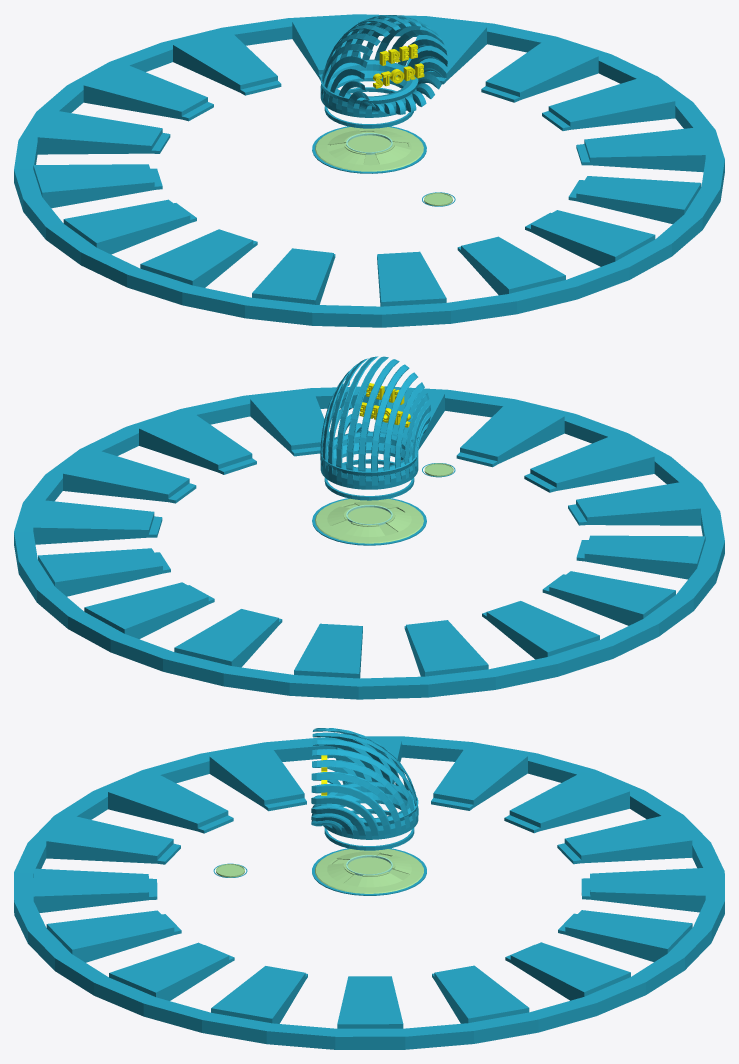
The model's file is FreeStore04.dae.
The picture shows the model from 3 angles, top to bottom: view 1: azimuth 30°, elevation 25°; view 2: azimuth 150°, elevation 25°; view 3: azimuth 270°, elevation 25°; orthographic projection.
Visible parts, largest first — view 1: Cylinder_006, Torus, Cylinder, FREE_STORE, Cylinder_002, Cylinder_003; view 2: Cylinder_006, Torus, Cylinder, FREE_STORE, Cylinder_002, Cylinder_003; view 3: Cylinder_006, Torus, Cylinder, Cylinder_002, Cylinder_003.
Boxes of the visible parts, box(x1,y1,x2,y2) form: Cylinder_006: box(14, 14, 724, 327); Torus: box(320, 15, 447, 117); Cylinder: box(315, 127, 423, 171); FREE_STORE: box(373, 43, 424, 88); Cylinder_002: box(324, 87, 413, 128); Cylinder_003: box(312, 126, 426, 173); Cylinder_006: box(14, 386, 724, 699); Torus: box(320, 356, 430, 489); Cylinder: box(315, 498, 423, 543); FREE_STORE: box(359, 383, 410, 427); Cylinder_002: box(324, 459, 414, 500); Cylinder_003: box(312, 498, 426, 545); Cylinder_006: box(14, 736, 724, 1049); Torus: box(311, 728, 418, 839); Cylinder: box(315, 849, 423, 893); Cylinder_002: box(324, 809, 414, 850); Cylinder_003: box(312, 848, 426, 895).
Size of the model in its own units: 181 by 181 by 48.14.
